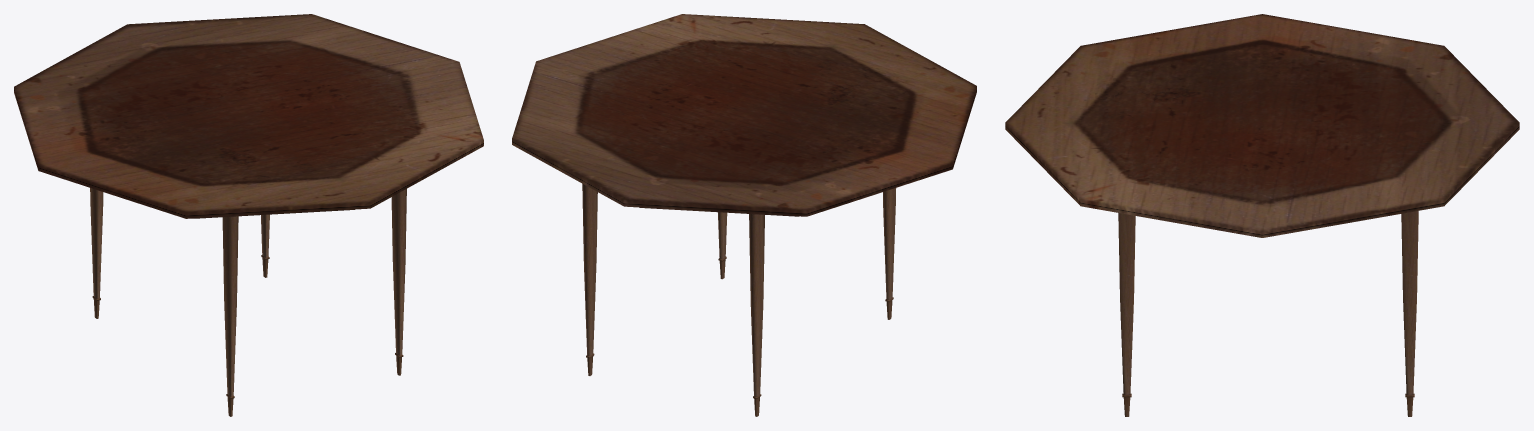
The model's file is table.fbx.
3 renders of one model, left to right at view 1: azimuth 30°, elevation 25°; view 2: azimuth 150°, elevation 25°; view 3: azimuth 270°, elevation 25°, orthographic. The views are drawn at different scales.
Visible parts, largest first — view 1: Mesh; view 2: Mesh; view 3: Mesh.
Boxes of the visible parts, left/top/right/bottom form: Mesh: left=14, top=14, right=483, bottom=416; Mesh: left=512, top=14, right=976, bottom=416; Mesh: left=1005, top=14, right=1519, bottom=416.
Bounding box in the file's own units: 81.43 × 43.56 × 81.43.
